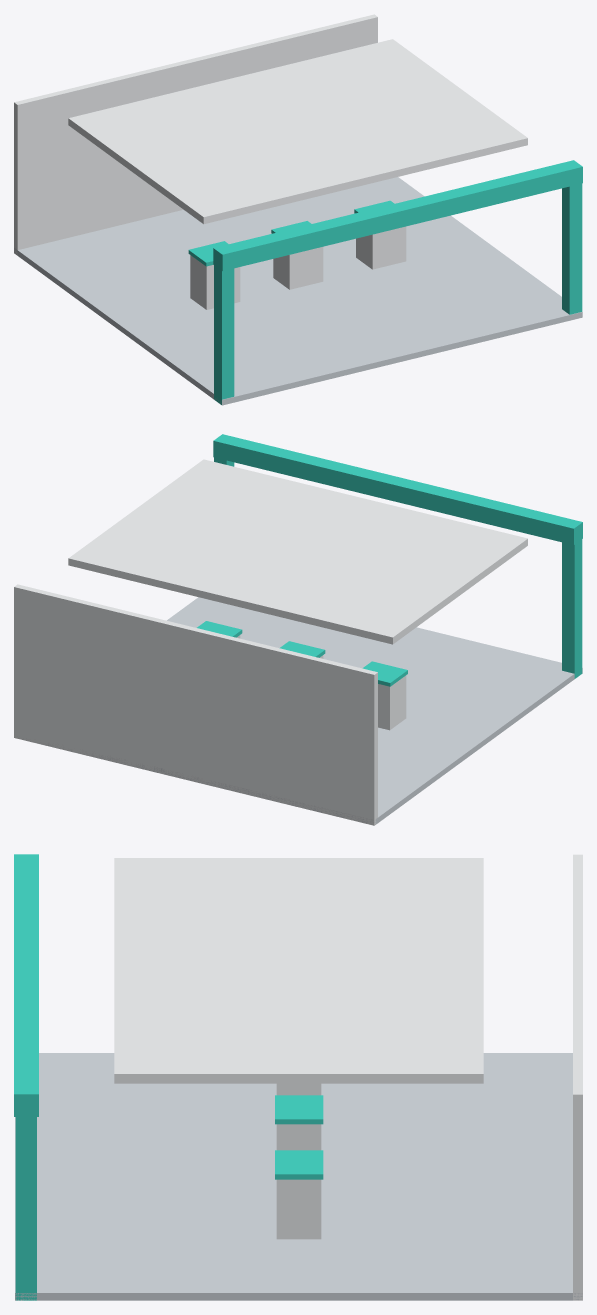
3 views of the same model, one above another, from view 1: azimuth 30°, elevation 25°; view 2: azimuth 150°, elevation 25°; view 3: azimuth 270°, elevation 25° (orthographic). The views are drawn at different scales.
Parts seen in each view (by area): view 1: Exhibition Booth Concept; view 2: Exhibition Booth Concept; view 3: Exhibition Booth Concept.
Boxes of the visible parts, left/top/right/bottom form: Exhibition Booth Concept: left=14, top=14, right=582, bottom=405; Exhibition Booth Concept: left=14, top=434, right=582, bottom=825; Exhibition Booth Concept: left=14, top=854, right=582, bottom=1300.
Size of the model in its own units: 8 by 3.34 by 8.01.
